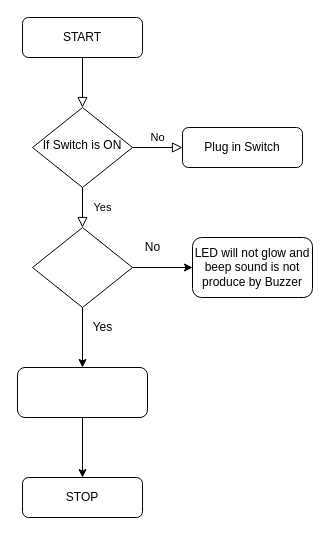
The diagram is 330 pixels wide and 535 high, and some of its shapes have lost their labels. The shapes that lost their labels are listed below. From the top down, each one's centre as x and y in pixels, then its label:
pixel 82 267: If Door sensor(Switch)is open
pixel 82 392: LED Glow and beep sound produce by Buzzer
